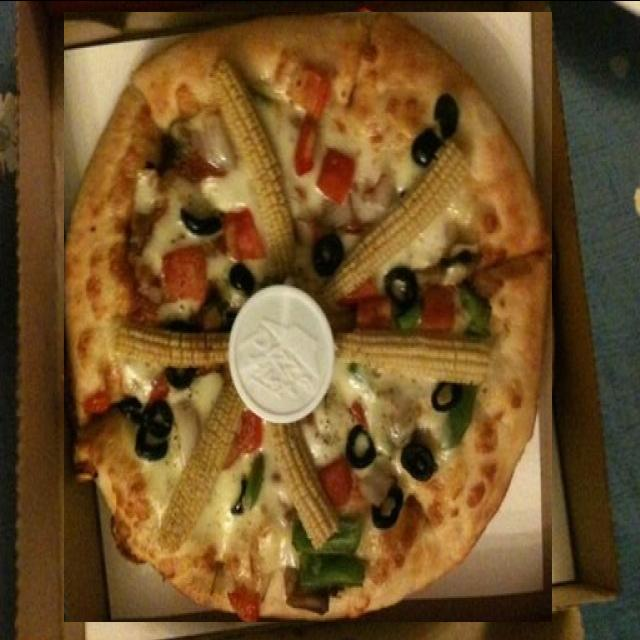olive: (443, 171, 498, 234), (214, 101, 243, 148), (200, 327, 232, 367), (182, 152, 214, 191), (273, 358, 304, 398), (239, 164, 267, 206), (393, 396, 435, 424), (157, 494, 182, 540), (176, 468, 204, 504), (154, 220, 183, 253), (360, 337, 386, 369), (421, 243, 449, 264), (420, 298, 453, 314)
pizza: (64, 11, 552, 621)
